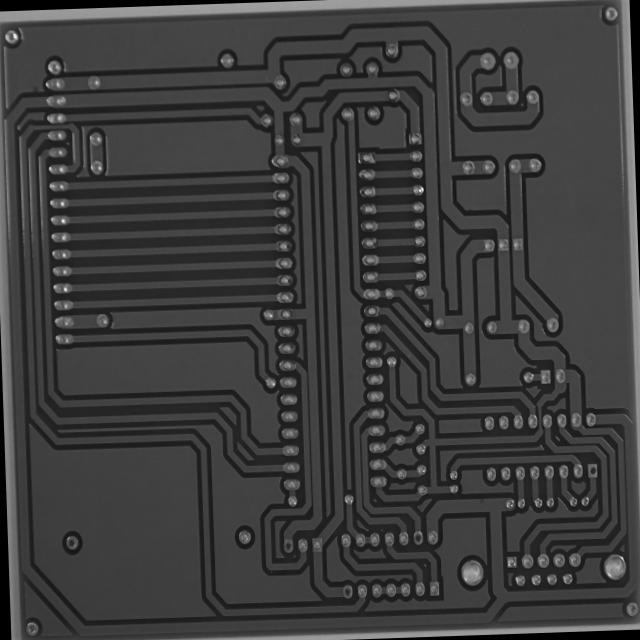missing_hole: (338, 579, 357, 601), (63, 532, 80, 554), (584, 460, 600, 479), (280, 536, 296, 554), (410, 528, 425, 545)
